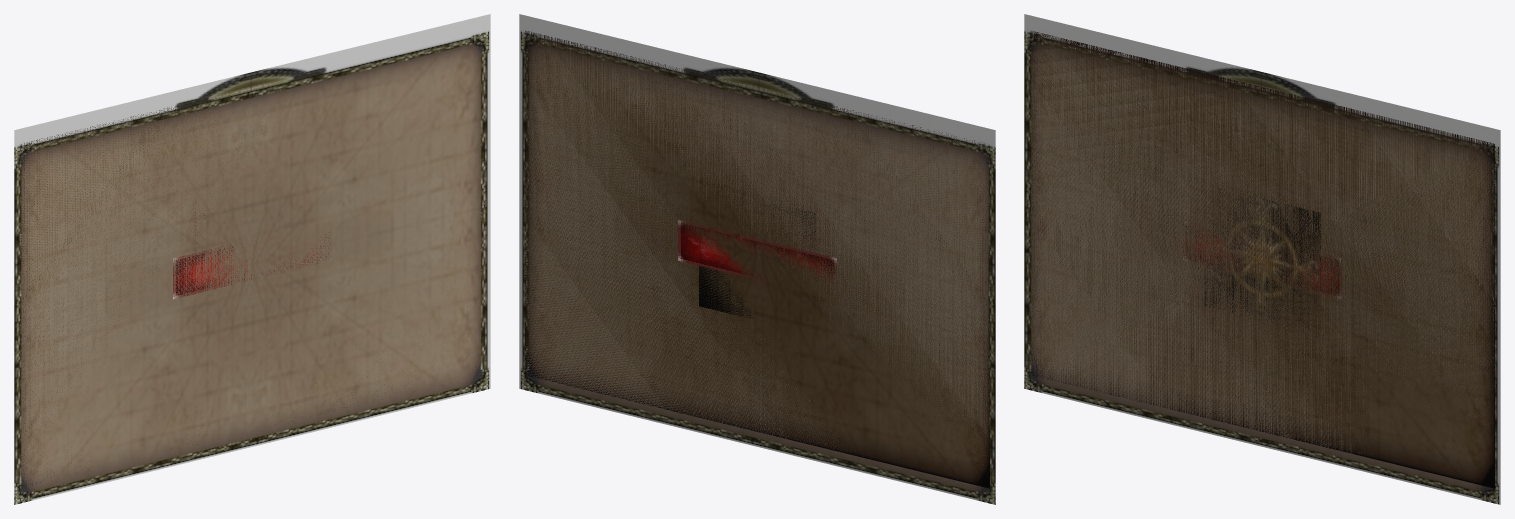
The model's file is basic_unlimited.fbx.
The picture shows the model from 3 angles, left to right: view 1: azimuth 30°, elevation 25°; view 2: azimuth 150°, elevation 25°; view 3: azimuth 330°, elevation 25°; orthographic projection.
Visible parts, largest first — view 1: but_message_panel_border, but_message_panel, but_nav_over; view 2: but_message_panel_border, but_message_panel, but_nav_over, but_compass; view 3: but_message_panel, but_message_panel_border, but_compass, but_nav_over.
Part boxes in pixels (box(x1,y1,x2,y2)): but_message_panel_border: box(14, 14, 490, 504); but_message_panel: box(20, 73, 478, 484); but_nav_over: box(173, 234, 330, 299); but_message_panel_border: box(519, 14, 995, 504); but_message_panel: box(525, 30, 989, 488); but_nav_over: box(678, 220, 836, 286); but_compass: box(699, 203, 815, 319); but_message_panel: box(1030, 31, 1494, 488); but_message_panel_border: box(1024, 14, 1500, 504); but_compass: box(1204, 189, 1320, 329); but_nav_over: box(1183, 221, 1341, 299).
Size of the model in its own units: 146 by 110 by 1.79e-05.
Materials: 5 (5 with a texture image).
